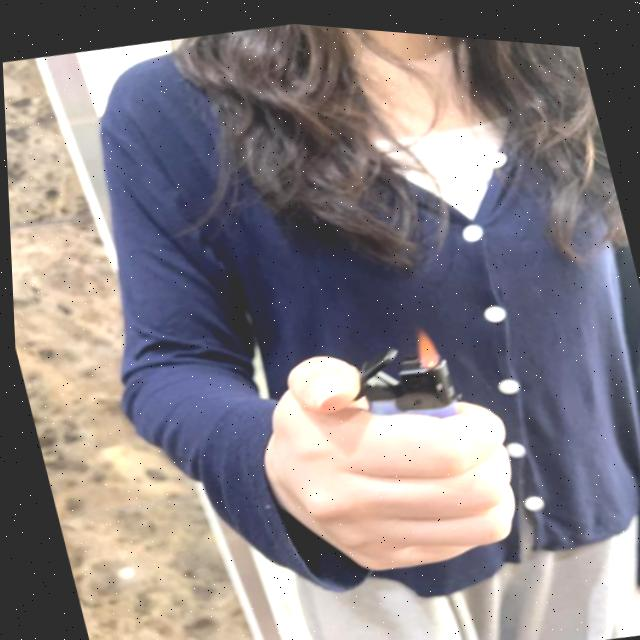Fire: (406, 317, 441, 362)
